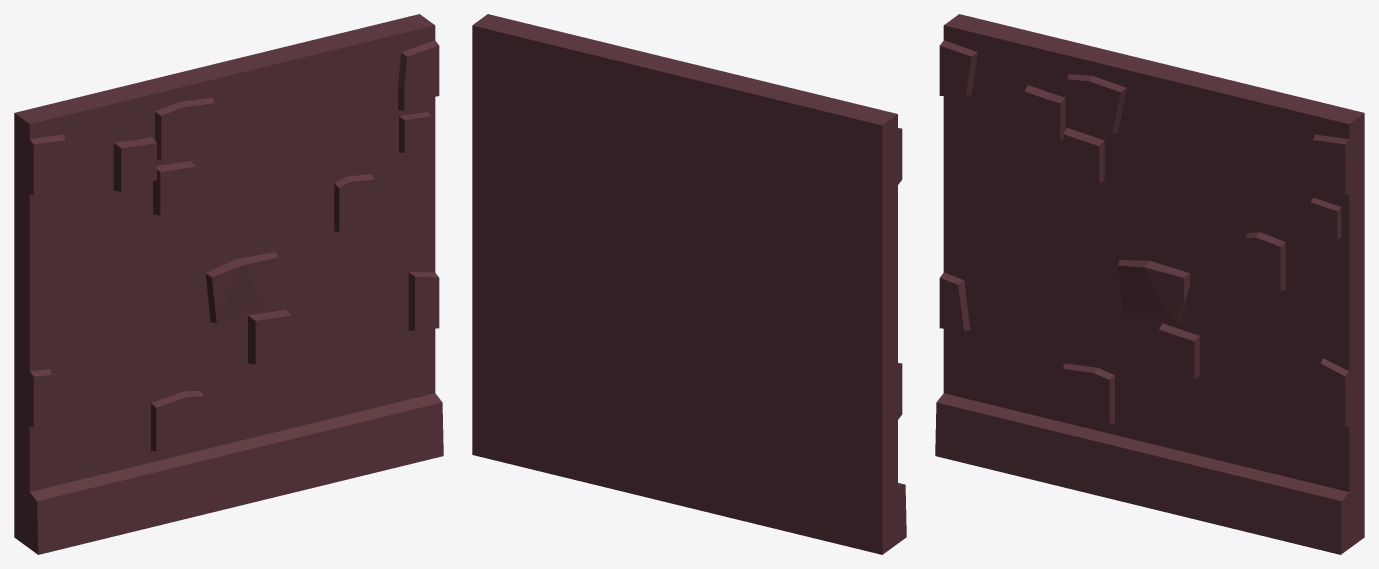
The model's file is empire-stone-wall-3x3-moss-rim-empire.glb.
The picture shows the model from 3 angles, left to right: view 1: azimuth 30°, elevation 25°; view 2: azimuth 150°, elevation 25°; view 3: azimuth 330°, elevation 25°; orthographic projection.
Parts seen in each view (by area): view 1: SM_Stone_Wall_3x3_Moss_Rim_Empire; view 2: SM_Stone_Wall_3x3_Moss_Rim_Empire; view 3: SM_Stone_Wall_3x3_Moss_Rim_Empire.
Part boxes in pixels (<box>): SM_Stone_Wall_3x3_Moss_Rim_Empire: <box>14,14,443,554</box>; SM_Stone_Wall_3x3_Moss_Rim_Empire: <box>472,14,906,554</box>; SM_Stone_Wall_3x3_Moss_Rim_Empire: <box>935,14,1364,554</box>.
Size of the model in its own units: 3 by 3 by 0.3082.
